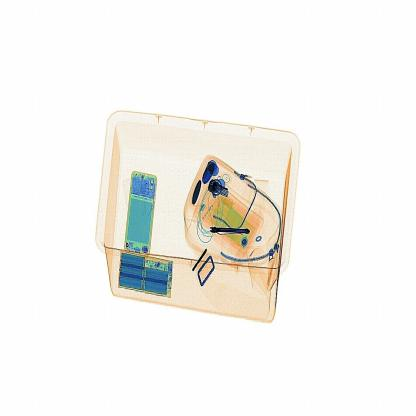knife: (208, 222, 256, 238)
